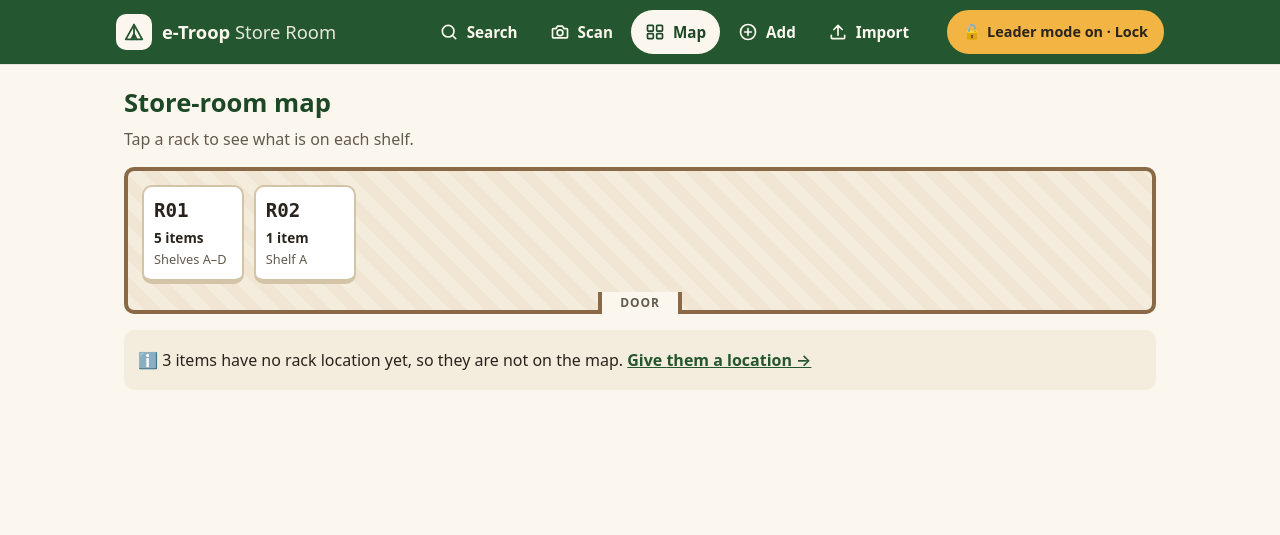
Store-room map › tapping a tile opens the rack view
What coordinates should you click on to do the following:
click the link with aria-label "Rack R01, 5 items"
I would click on:
 (193, 234)
Its box is top-left (142, 185), bottom-right (244, 284).
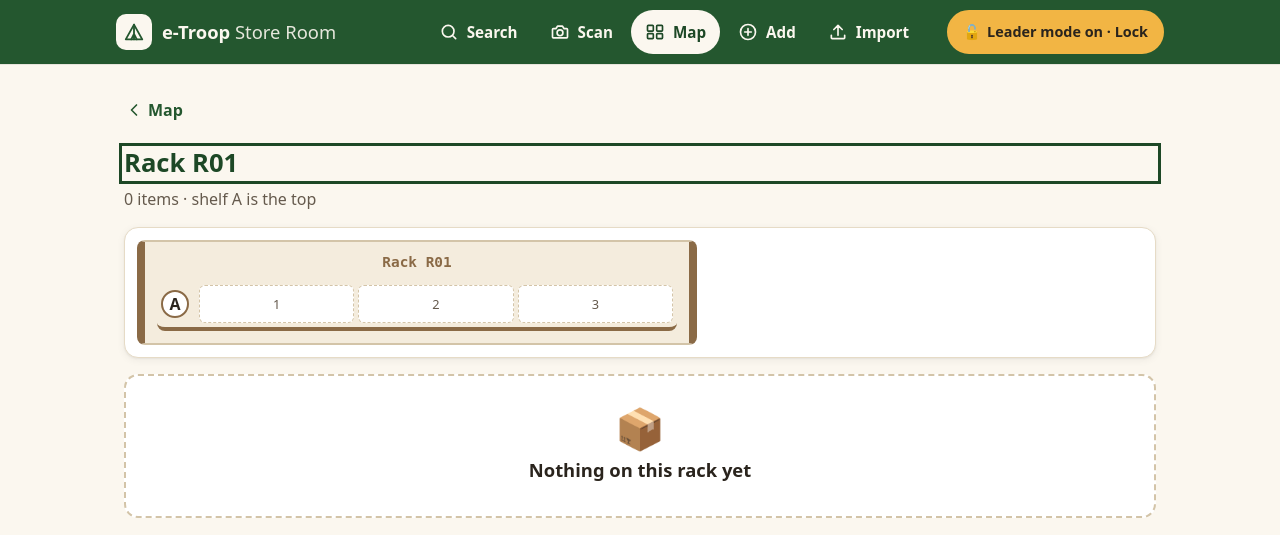
Expected: the heading "Rack R01" is shown, top-left (124, 145), bottom-right (238, 180)
